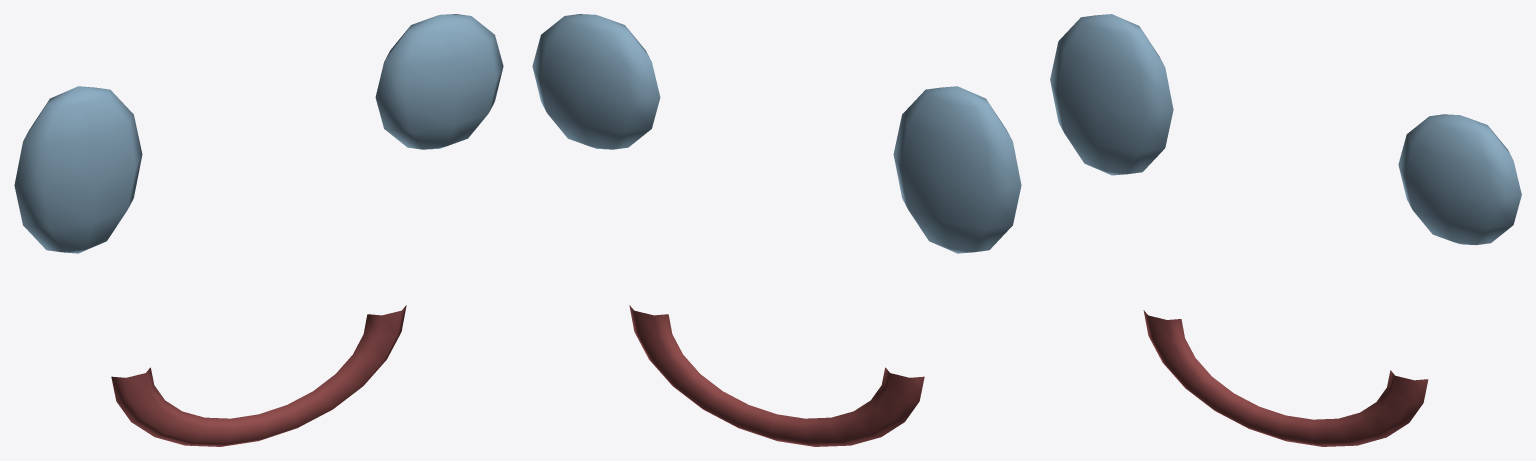
The model's file is vendor_helper_face.glb.
3 views of the same model, side by side, from view 1: azimuth 30°, elevation 25°; view 2: azimuth 150°, elevation 25°; view 3: azimuth 330°, elevation 25° (orthographic). The views are drawn at different scales.
Parts seen in each view (by area): view 1: eye_l, eye_r, mouth; view 2: eye_l, eye_r, mouth; view 3: eye_l, eye_r, mouth.
Part boxes in pixels (x1,y1,x2,y2): eye_l: [14, 86, 142, 253]; eye_r: [375, 14, 503, 149]; mouth: [111, 305, 406, 446]; eye_l: [893, 86, 1021, 253]; eye_r: [532, 14, 660, 149]; mouth: [629, 305, 924, 446]; eye_l: [1050, 14, 1173, 175]; eye_r: [1398, 114, 1521, 245]; mouth: [1143, 310, 1428, 446].
Size of the model in its own units: 0.298 by 0.2323 by 0.0351.
